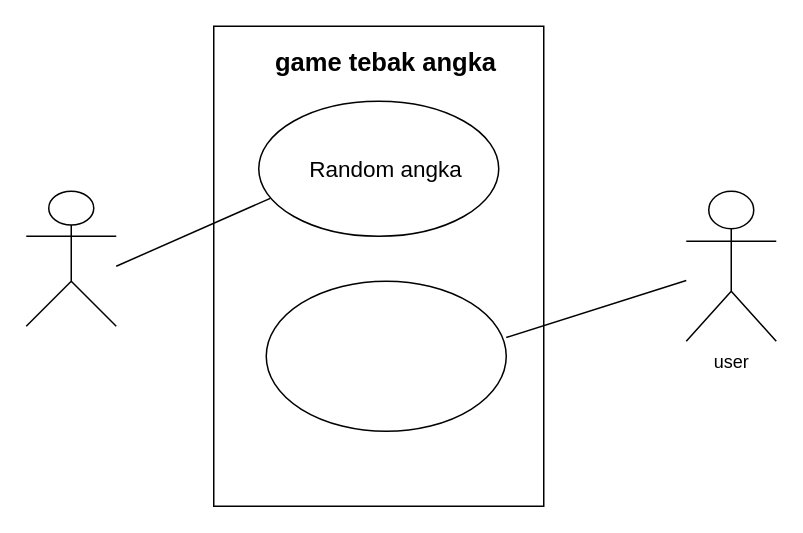
Some shapes in this 803 by 533 pixel diagram are drawn without their labels. The centre of each missing label's shape, as x and y in pixels:
komputer: point 70,258
Tebak angka: point 385,355
